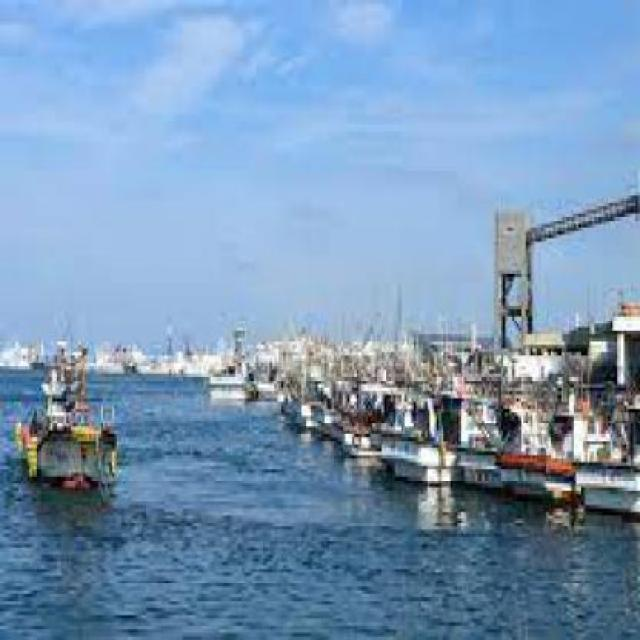fish-b: (10, 339, 123, 506)
